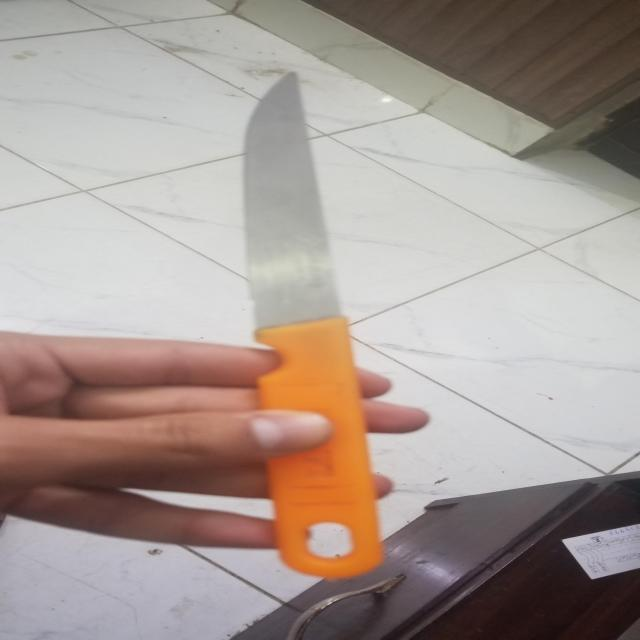Knife: (230, 67, 392, 572)
